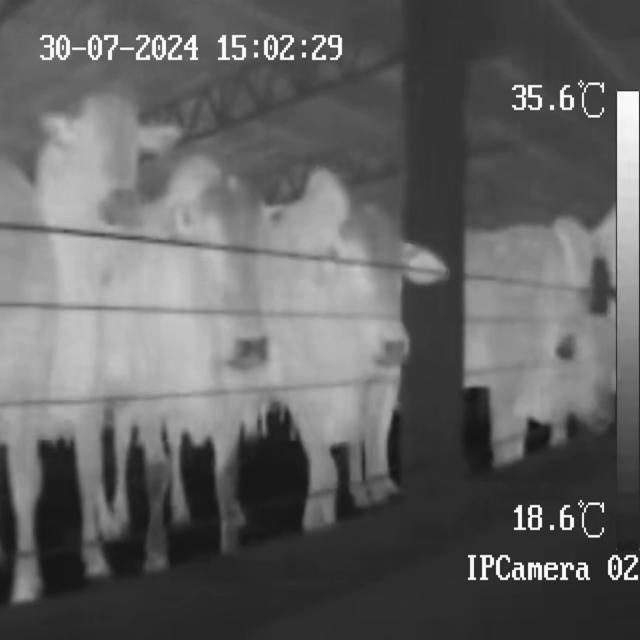eye: (202, 215, 227, 275), (351, 249, 370, 295)
head: (188, 173, 279, 375), (332, 204, 411, 376), (73, 87, 144, 230)
